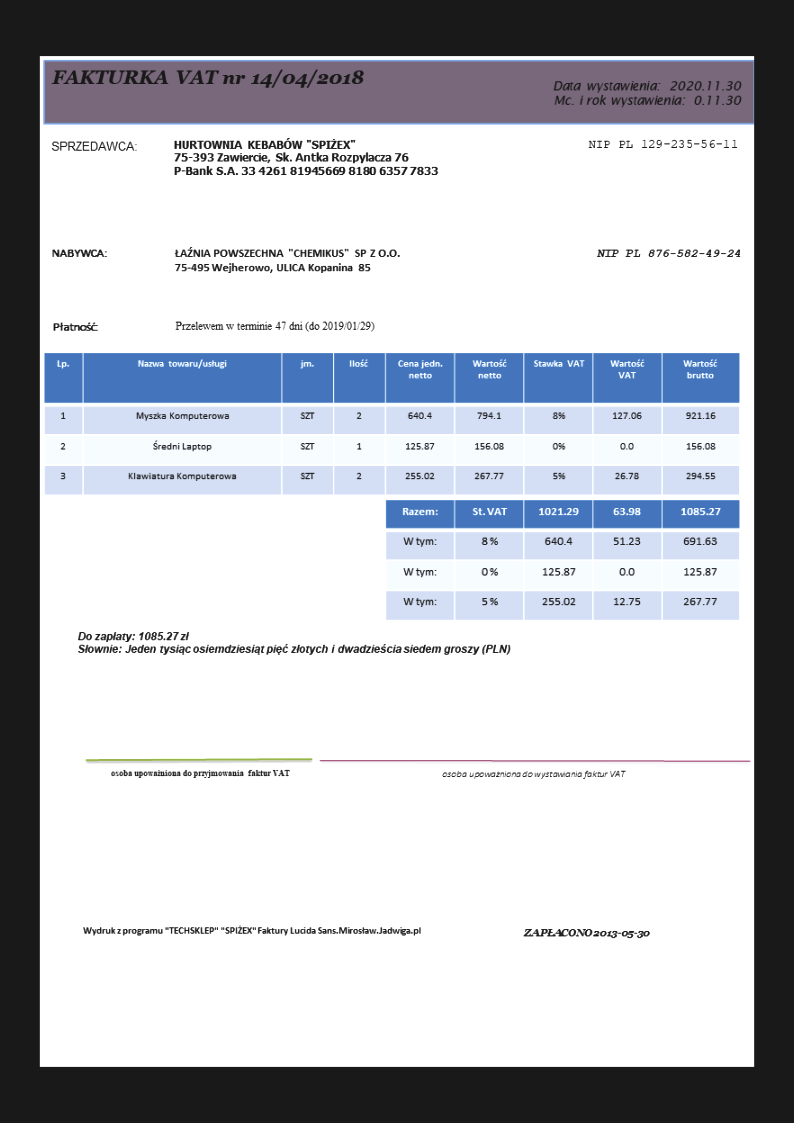Table: (42, 351, 742, 494), (384, 499, 740, 621)
TextBox: (75, 629, 513, 659), (172, 138, 439, 180), (49, 65, 368, 92), (171, 246, 402, 275), (550, 78, 746, 108), (79, 923, 424, 938), (173, 318, 377, 333), (105, 766, 293, 781), (439, 767, 626, 780), (594, 245, 742, 261), (585, 137, 739, 152), (520, 926, 653, 942), (49, 137, 139, 153), (48, 246, 108, 260), (49, 320, 101, 334)
